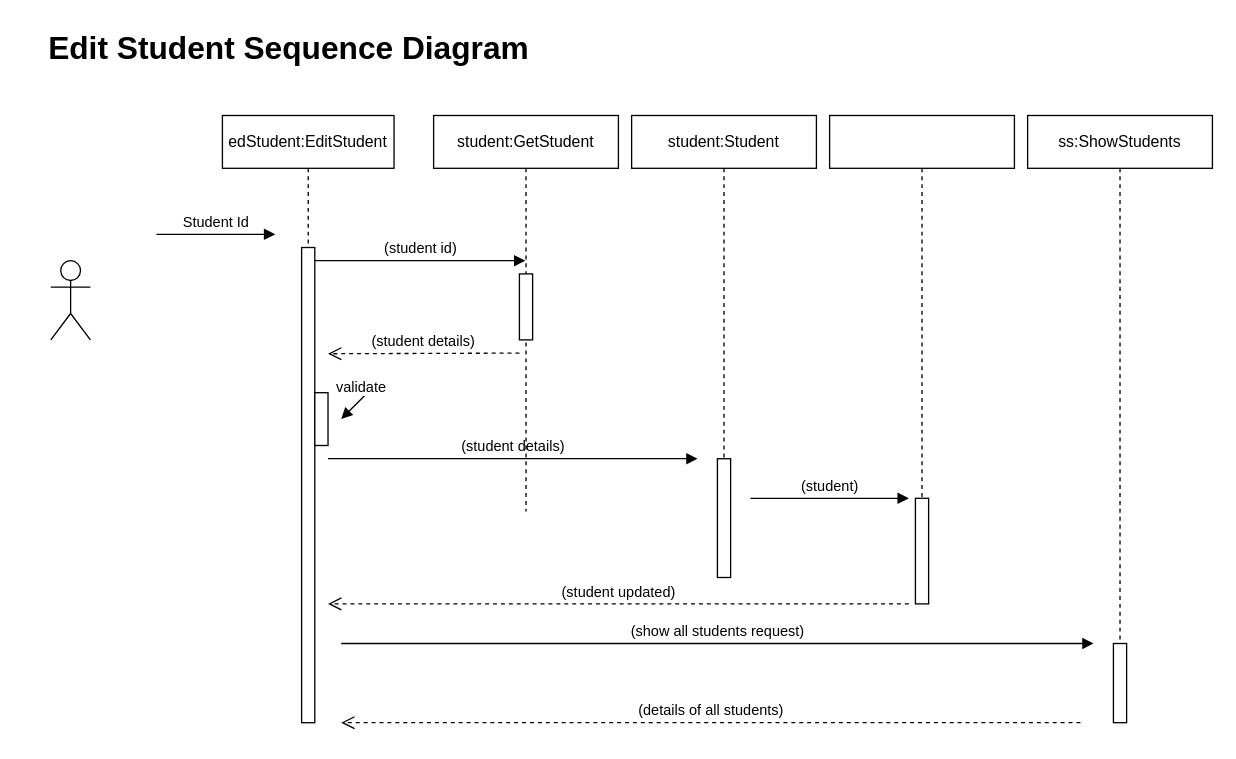
This 1236x759 diagram has some shape labels left out. Here are the shapes that lost their labels. From the top down, the box of each, then its label:
(50, 259, 90, 340): Staff Member
(828, 114, 1014, 604): upd:UpdateData
